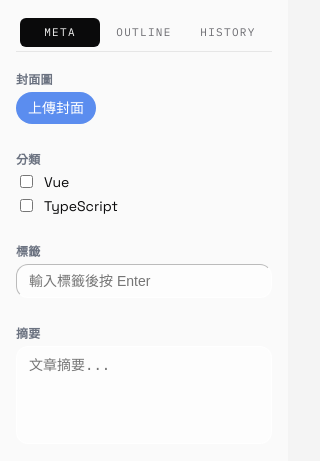
EditorMetaSidebar › History tab › 版本清單渲染時間戳、Auto/Manual 標記、摘要與還原按鈕
Click the button "History".
click(228, 32)  # box 188,18 -> 268,47
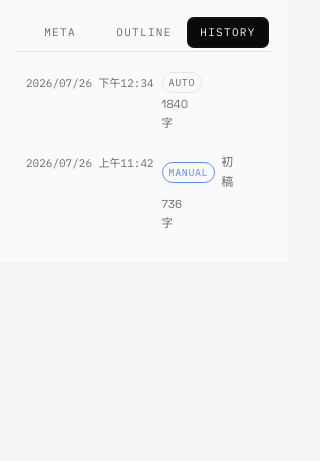
Expected: the text "Auto" is shown, 162,72 -> 202,93
Expected: the text "Manual" is shown, 162,162 -> 215,183
Expected: the text "初稿" is shown, 221,152 -> 233,193
